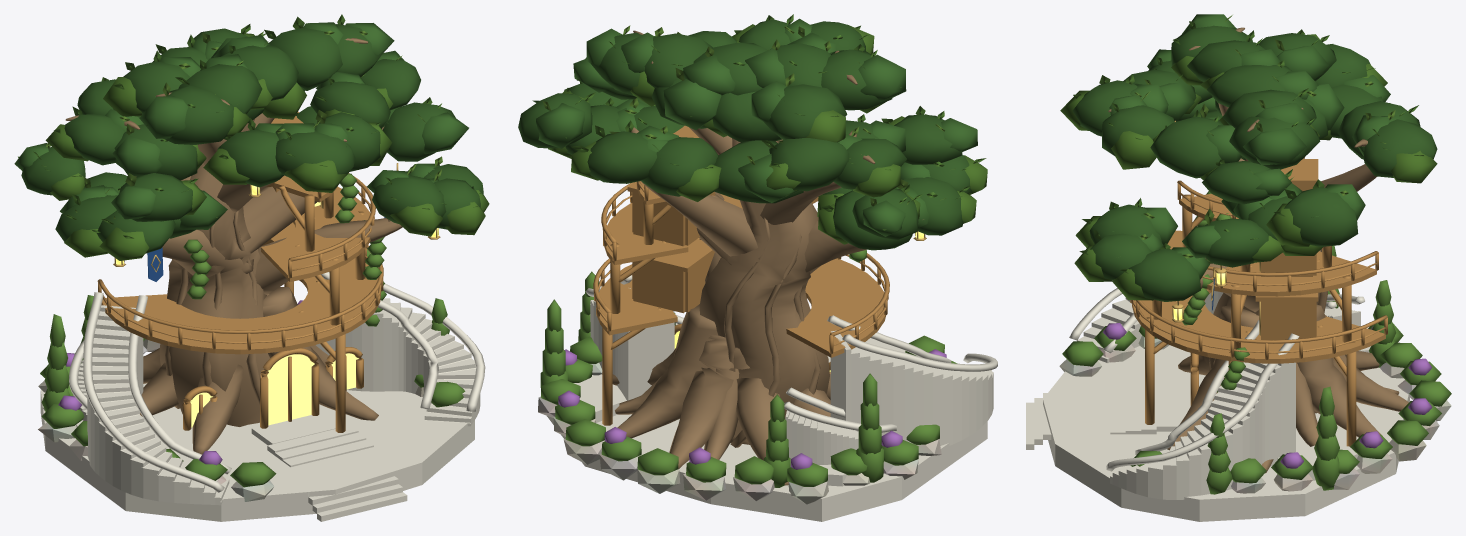
Rendered from habit-v03.glb.
The picture shows the model from 3 angles, left to right: view 1: azimuth 30°, elevation 25°; view 2: azimuth 150°, elevation 25°; view 3: azimuth 270°, elevation 25°; orthographic projection. The views are drawn at different scales.
Parts seen in each view (by area): view 1: oak-canopy-L2-S4-oak-leaf-and-garden-color, oak-canopy-L3-S4-oak-leaf-and-garden-color, oak-stairs-L1-S1-oak-garden-limestone, oak-canopy-L1-S4-oak-leaf-and-garden-color, oak-trunk-L1-S2-oak-sculpted-bark, oak-galleries-L1-S3-oak-warm-timber, oak-stairs-L1-S3-oak-garden-limestone, oak-trunk-L1-S1-oak-sculpted-bark, oak-stairs-L2-S1-oak-garden-limestone, oak-galleries-L2-S3-oak-warm-timber, oak-stairs-L1-S5-oak-garden-limestone, oak-stairs-L2-S3-oak-garden-limestone (+9 smaller); view 2: oak-canopy-L1-S4-oak-leaf-and-garden-color, oak-canopy-L3-S4-oak-leaf-and-garden-color, oak-canopy-L2-S4-oak-leaf-and-garden-color, oak-trunk-L1-S2-oak-sculpted-bark, oak-stairs-L1-S1-oak-garden-limestone, oak-galleries-L1-S3-oak-warm-timber, oak-trunk-L2-S1-oak-sculpted-bark, oak-stairs-L2-S1-oak-garden-limestone, oak-galleries-L2-S3-oak-warm-timber, oak-stairs-L3-S1-oak-garden-limestone, oak-trunk-L1-S1-oak-sculpted-bark, oak-stairs-L1-S5-oak-garden-limestone (+9 smaller); view 3: oak-canopy-L2-S4-oak-leaf-and-garden-color, oak-canopy-L3-S4-oak-leaf-and-garden-color, oak-stairs-L1-S1-oak-garden-limestone, oak-canopy-L1-S4-oak-leaf-and-garden-color, oak-galleries-L1-S3-oak-warm-timber, oak-stairs-L2-S1-oak-garden-limestone, oak-galleries-L2-S3-oak-warm-timber, oak-stairs-L1-S3-oak-garden-limestone, oak-trunk-L2-S1-oak-sculpted-bark, oak-stairs-L2-S3-oak-garden-limestone, oak-stairs-L2-S5-oak-garden-limestone, oak-galleries-L1-S5-oak-warm-timber (+8 smaller).
Boxes of the visible parts, <box> form: oak-canopy-L2-S4-oak-leaf-and-garden-color: <box>14,77,489,487</box>; oak-canopy-L3-S4-oak-leaf-and-garden-color: <box>41,14,423,461</box>; oak-stairs-L1-S1-oak-garden-limestone: <box>38,311,474,521</box>; oak-canopy-L1-S4-oak-leaf-and-garden-color: <box>40,24,468,480</box>; oak-trunk-L1-S2-oak-sculpted-bark: <box>159,119,384,426</box>; oak-galleries-L1-S3-oak-warm-timber: <box>101,222,381,432</box>; oak-stairs-L1-S3-oak-garden-limestone: <box>91,305,373,501</box>; oak-trunk-L1-S1-oak-sculpted-bark: <box>140,287,378,454</box>; oak-stairs-L2-S1-oak-garden-limestone: <box>42,312,480,501</box>; oak-galleries-L2-S3-oak-warm-timber: <box>261,181,370,388</box>; oak-stairs-L1-S5-oak-garden-limestone: <box>83,292,231,492</box>; oak-stairs-L2-S3-oak-garden-limestone: <box>373,298,475,422</box>; oak-canopy-L1-S4-oak-leaf-and-garden-color: <box>548,68,987,486</box>; oak-canopy-L3-S4-oak-leaf-and-garden-color: <box>541,25,977,487</box>; oak-canopy-L2-S4-oak-leaf-and-garden-color: <box>518,14,944,482</box>; oak-trunk-L1-S2-oak-sculpted-bark: <box>631,127,923,447</box>; oak-stairs-L1-S1-oak-garden-limestone: <box>547,338,993,521</box>; oak-galleries-L1-S3-oak-warm-timber: <box>596,239,886,425</box>; oak-trunk-L2-S1-oak-sculpted-bark: <box>617,304,733,468</box>; oak-stairs-L2-S1-oak-garden-limestone: <box>563,305,870,500</box>; oak-galleries-L2-S3-oak-warm-timber: <box>604,182,818,334</box>; oak-stairs-L3-S1-oak-garden-limestone: <box>538,397,918,500</box>; oak-trunk-L1-S1-oak-sculpted-bark: <box>612,347,830,485</box>; oak-stairs-L1-S5-oak-garden-limestone: <box>827,315,997,371</box>; oak-canopy-L2-S4-oak-leaf-and-garden-color: <box>1060,44,1441,494</box>; oak-canopy-L3-S4-oak-leaf-and-garden-color: <box>1139,14,1441,473</box>; oak-stairs-L1-S1-oak-garden-limestone: <box>1026,291,1451,521</box>; oak-canopy-L1-S4-oak-leaf-and-garden-color: <box>1094,75,1451,483</box>; oak-galleries-L1-S3-oak-warm-timber: <box>1132,289,1385,446</box>; oak-stairs-L2-S1-oak-garden-limestone: <box>1059,359,1435,499</box>; oak-galleries-L2-S3-oak-warm-timber: <box>1152,230,1376,349</box>; oak-stairs-L1-S3-oak-garden-limestone: <box>1077,297,1190,434</box>; oak-trunk-L2-S1-oak-sculpted-bark: <box>1297,305,1408,437</box>; oak-stairs-L2-S3-oak-garden-limestone: <box>1110,362,1283,480</box>; oak-stairs-L2-S5-oak-garden-limestone: <box>1106,320,1299,471</box>; oak-galleries-L1-S5-oak-warm-timber: <box>1130,300,1387,359</box>.
Bounding box in the file's own units: 2.9 × 2.7 × 2.77.
